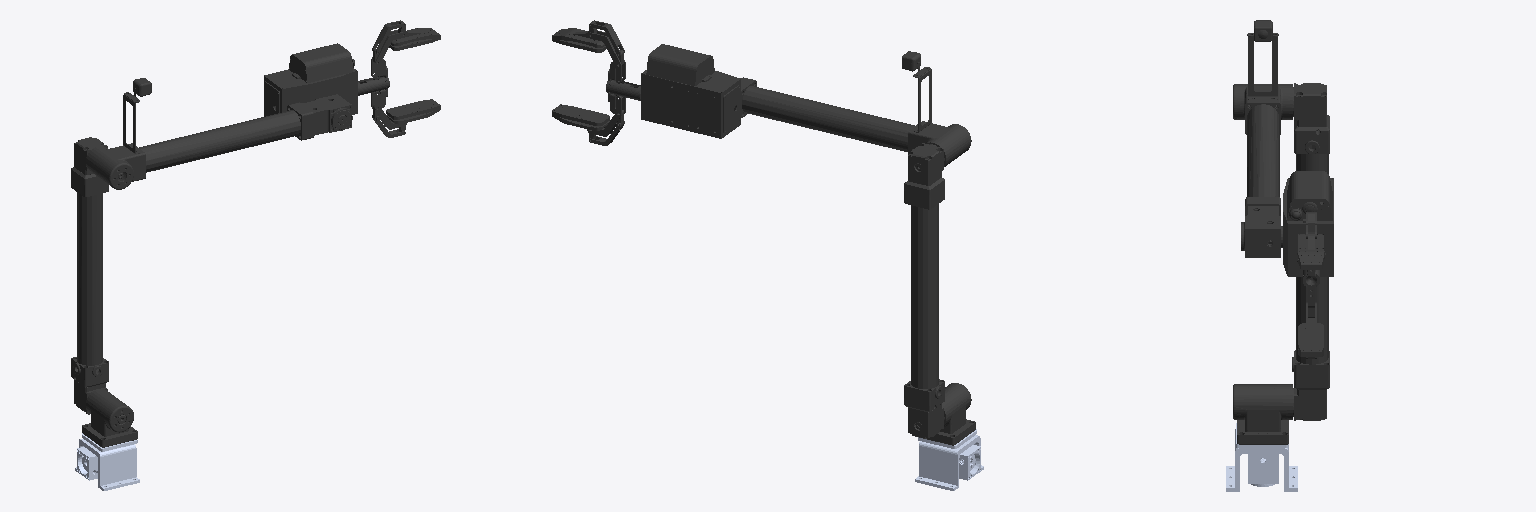
robot.urdf — rescue_robot_arm.SLDASM:
<robot
  name="rescue_robot_arm.SLDASM">
  <link
    name="base_link">
    <inertial>
      <origin
        xyz="0.24824 -0.066844 0.19422"
        rpy="0 0 0" />
      <mass
        value="0.38823" />
      <inertia
        ixx="0.00043224"
        ixy="-7.4607E-06"
        ixz="-8.4129E-07"
        iyy="0.00041417"
        iyz="-1.4996E-06"
        izz="0.00034463" />
    </inertial>
    <visual>
      <origin
        xyz="0 0 0"
        rpy="0 0 0" />
      <geometry>
        <mesh
          filename="package://rescue_robot_arm.SLDASM/meshes/base_link.stl" />
      </geometry>
      <material
        name="">
        <color
          rgba="0.86667 0.9098 1 1" />
      </material>
    </visual>
    <collision>
      <origin
        xyz="0 0 0"
        rpy="0 0 0" />
      <geometry>
        <mesh
          filename="package://rescue_robot_arm.SLDASM/meshes/base_link.stl" />
      </geometry>
    </collision>
  </link>
  <link
    name="ARM_PTZ_Link">
    <inertial>
      <origin
        xyz="0.037138 -0.026294 0.034984"
        rpy="0 0 0" />
      <mass
        value="0.10397" />
      <inertia
        ixx="8.0981E-05"
        ixy="4.603E-06"
        ixz="-3.4851E-09"
        iyy="9.211E-05"
        iyz="3.1711E-08"
        izz="9.582E-05" />
    </inertial>
    <visual>
      <origin
        xyz="0 0 0"
        rpy="0 0 0" />
      <geometry>
        <mesh
          filename="package://rescue_robot_arm.SLDASM/meshes/ARM_PTZ_Link.stl" />
      </geometry>
      <material
        name="">
        <color
          rgba="0.29412 0.29412 0.29412 1" />
      </material>
    </visual>
    <collision>
      <origin
        xyz="0 0 0"
        rpy="0 0 0" />
      <geometry>
        <mesh
          filename="package://rescue_robot_arm.SLDASM/meshes/ARM_PTZ_Link.stl" />
      </geometry>
    </collision>
  </link>
  <joint
    name="ARM_PTZ_Joint"
    type="continuous">
    <origin
      xyz="0.22077 -0.158 -0.033667"
      rpy="-1.5708 -6.123E-17 -1.5708" />
    <parent
      link="base_link" />
    <child
      link="ARM_PTZ_Link" />
    <axis
      xyz="0 1 0" />
  </joint>
  <link
    name="ARM_Joint1_Link">
    <inertial>
      <origin
        xyz="-0.093428 -6.7766E-09 -0.22285"
        rpy="0 0 0" />
      <mass
        value="0.33655" />
      <inertia
        ixx="0.011329"
        ixy="-7.6342E-11"
        ixz="-1.0332E-06"
        iyy="0.011497"
        iyz="-5.1113E-08"
        izz="0.00030224" />
    </inertial>
    <visual>
      <origin
        xyz="0 0 0"
        rpy="0 0 0" />
      <geometry>
        <mesh
          filename="package://rescue_robot_arm.SLDASM/meshes/ARM_Joint1_Link.stl" />
      </geometry>
      <material
        name="">
        <color
          rgba="0.29412 0.29412 0.29412 1" />
      </material>
    </visual>
    <collision>
      <origin
        xyz="0 0 0"
        rpy="0 0 0" />
      <geometry>
        <mesh
          filename="package://rescue_robot_arm.SLDASM/meshes/ARM_Joint1_Link.stl" />
      </geometry>
    </collision>
  </link>
  <joint
    name="ARM_Joint1"
    type="revolute">
    <origin
      xyz="0.072 -0.047 0.035"
      rpy="-1.5708 0 0" />
    <parent
      link="ARM_PTZ_Link" />
    <child
      link="ARM_Joint1_Link" />
    <axis
      xyz="1 0 0" />
		<limit
			effort="1000.0"
			lower="-1.8"
			upper="1.52"
			velocity="0.5" />
  </joint>
  <link
    name="ARM_Joint2_Link">
    <inertial>
      <origin
        xyz="0.23841 0.040319 0.0063346"
        rpy="0 0 0" />
      <mass
        value="0.31983" />
      <inertia
        ixx="0.00040584"
        ixy="-4.4847E-05"
        ixz="0.00035965"
        iyy="0.0098258"
        iyz="-1.5156E-06"
        izz="0.0096005" />
    </inertial>
    <visual>
      <origin
        xyz="0 0 0"
        rpy="0 0 0" />
      <geometry>
        <mesh
          filename="package://rescue_robot_arm.SLDASM/meshes/ARM_Joint2_Link.stl" />
      </geometry>
      <material
        name="">
        <color
          rgba="0.29412 0.29412 0.29412 1" />
      </material>
    </visual>
    <collision>
      <origin
        xyz="0 0 0"
        rpy="0 0 0" />
      <geometry>
        <mesh
          filename="package://rescue_robot_arm.SLDASM/meshes/ARM_Joint2_Link.stl" />
      </geometry>
    </collision>
  </link>
  <joint
    name="ARM_Joint2"
    type="revolute">
    <origin
      xyz="0.004 0 -0.446"
      rpy="3.1416 -1.7347E-16 -1.5708" />
    <parent
      link="ARM_Joint1_Link" />
    <child
      link="ARM_Joint2_Link" />
    <axis
      xyz="0 1 0" />
		<limit
			effort="1000.0"
			lower="-1.8"
			upper="1.43"
			velocity="0.5" />
  </joint>
  <link
    name="ARM_PITCH_Link">
    <inertial>
      <origin
        xyz="-0.0078216 -0.031669 0.034896"
        rpy="0 0 0" />
      <mass
        value="0.24177" />
      <inertia
        ixx="0.00069778"
        ixy="-1.3365E-05"
        ixz="-2.3292E-05"
        iyy="0.00058522"
        iyz="-2.3183E-05"
        izz="0.0003799" />
    </inertial>
    <visual>
      <origin
        xyz="0 0 0"
        rpy="0 0 0" />
      <geometry>
        <mesh
          filename="package://rescue_robot_arm.SLDASM/meshes/ARM_PITCH_Link.stl" />
      </geometry>
      <material
        name="">
        <color
          rgba="0.29412 0.29412 0.29412 1" />
      </material>
    </visual>
    <collision>
      <origin
        xyz="0 0 0"
        rpy="0 0 0" />
      <geometry>
        <mesh
          filename="package://rescue_robot_arm.SLDASM/meshes/ARM_PITCH_Link.stl" />
      </geometry>
    </collision>
  </link>
  <joint
    name="ARM_PITCH_Joint"
    type="revolute">
    <origin
      xyz="0.4 0.10395 0.05"
      rpy="1.5708 0 1.5708" />
    <parent
      link="ARM_Joint2_Link" />
    <child
      link="ARM_PITCH_Link" />
    <axis
      xyz="1 0 0" />
		<limit
			effort="1000.0"
			lower="-1.5"
			upper="1.5"
			velocity="0.5" />
  </joint>
  <link
    name="ARM_ROLL_Link">
    <inertial>
      <origin
        xyz="-0.00082833 -0.0025054 0.0014655"
        rpy="0 0 0" />
      <mass
        value="0.016482" />
      <inertia
        ixx="9.8809E-06"
        ixy="-3.081E-08"
        ixz="-1.456E-07"
        iyy="1.1293E-06"
        iyz="5.6573E-08"
        izz="1.0056E-05" />
    </inertial>
    <visual>
      <origin
        xyz="0 0 0"
        rpy="0 0 0" />
      <geometry>
        <mesh
          filename="package://rescue_robot_arm.SLDASM/meshes/ARM_ROLL_Link.stl" />
      </geometry>
      <material
        name="">
        <color
          rgba="0.29412 0.29412 0.29412 1" />
      </material>
    </visual>
    <collision>
      <origin
        xyz="0 0 0"
        rpy="0 0 0" />
      <geometry>
        <mesh
          filename="package://rescue_robot_arm.SLDASM/meshes/ARM_ROLL_Link.stl" />
      </geometry>
    </collision>
  </link>
  <joint
    name="ARM_ROLL_Joint"
    type="continuous">
    <origin
      xyz="0.002 -0.048 0.12965"
      rpy="1.5708 0 0.51512" />
    <parent
      link="ARM_PITCH_Link" />
    <child
      link="ARM_ROLL_Link" />
    <axis
      xyz="0 1 0" />
  </joint>
  <link
    name="ARM_GRIPPER_Link">
    <inertial>
      <origin
        xyz="-0.00020866 -0.096293 0.007"
        rpy="0 0 0" />
      <mass
        value="0.11066" />
      <inertia
        ixx="0.00051307"
        ixy="5.1477E-06"
        ixz="7.3922E-13"
        iyy="0.00013176"
        iyz="-3.3013E-11"
        izz="0.00063018" />
    </inertial>
    <visual>
      <origin
        xyz="0 0 0"
        rpy="0 0 0" />
      <geometry>
        <mesh
          filename="package://rescue_robot_arm.SLDASM/meshes/ARM_GRIPPER_Link.stl" />
      </geometry>
      <material
        name="">
        <color
          rgba="0.29412 0.29412 0.29412 1" />
      </material>
    </visual>
    <collision>
      <origin
        xyz="0 0 0"
        rpy="0 0 0" />
      <geometry>
        <mesh
          filename="package://rescue_robot_arm.SLDASM/meshes/ARM_GRIPPER_Link.stl" />
      </geometry>
    </collision>
  </link>
  <joint
    name="ARM_GRIPPER_Joint"
    type="prismatic">
    <origin
      xyz="-0.054509 0.072845 0.082079"
      rpy="1.0556 0.011745 1.5641" />
    <parent
      link="ARM_ROLL_Link" />
    <child
      link="ARM_GRIPPER_Link" />
    <axis
      xyz="1 0 0" />
		<limit
			effort="1000.0"
			lower="-0.04"
			upper="0.0"
			velocity="0.5" />
  </joint>
</robot>

--- What the picture shows (computed from the rendered views, not written in the file) ---
The picture shows the robot from 3 angles, left to right: view 1: azimuth 30°, elevation 25°; view 2: azimuth 150°, elevation 25°; view 3: azimuth 270°, elevation 25°; orthographic projection.
Robot: rescue_robot_arm.SLDASM — 7 links, 6 joints (3 revolute, 2 continuous, 1 prismatic); root link base_link; default pose: every joint at zero.
Links seen in each view (by area): view 1: ARM_Joint2_Link, ARM_Joint1_Link, ARM_PITCH_Link, ARM_GRIPPER_Link, base_link, ARM_PTZ_Link; view 2: ARM_Joint1_Link, ARM_Joint2_Link, ARM_PITCH_Link, ARM_GRIPPER_Link, base_link, ARM_PTZ_Link; view 3: ARM_Joint2_Link, ARM_Joint1_Link, ARM_PITCH_Link, ARM_PTZ_Link, ARM_GRIPPER_Link, base_link.
Link boxes in pixels (bbox=[...]): ARM_Joint2_Link: bbox=[86, 78, 352, 189]; ARM_Joint1_Link: bbox=[71, 137, 123, 419]; ARM_PITCH_Link: bbox=[264, 43, 357, 116]; ARM_GRIPPER_Link: bbox=[371, 20, 440, 137]; base_link: bbox=[75, 433, 139, 490]; ARM_PTZ_Link: bbox=[82, 389, 137, 447]; ARM_Joint1_Link: bbox=[904, 143, 944, 438]; ARM_Joint2_Link: bbox=[718, 51, 971, 166]; ARM_PITCH_Link: bbox=[641, 44, 740, 138]; ARM_GRIPPER_Link: bbox=[552, 20, 625, 145]; base_link: bbox=[915, 429, 983, 490]; ARM_PTZ_Link: bbox=[927, 383, 975, 445]; ARM_Joint2_Link: bbox=[1233, 20, 1292, 257]; ARM_Joint1_Link: bbox=[1292, 83, 1329, 420]; ARM_PITCH_Link: bbox=[1283, 171, 1333, 276]; ARM_PTZ_Link: bbox=[1233, 384, 1292, 444]; ARM_GRIPPER_Link: bbox=[1298, 212, 1323, 358]; base_link: bbox=[1226, 423, 1297, 491].
Size in the robot's own frame: 0.7175 by 0.1447 by 0.7107 metres.
7 mesh visuals loaded from 7 distinct referenced files (7 binary STL).